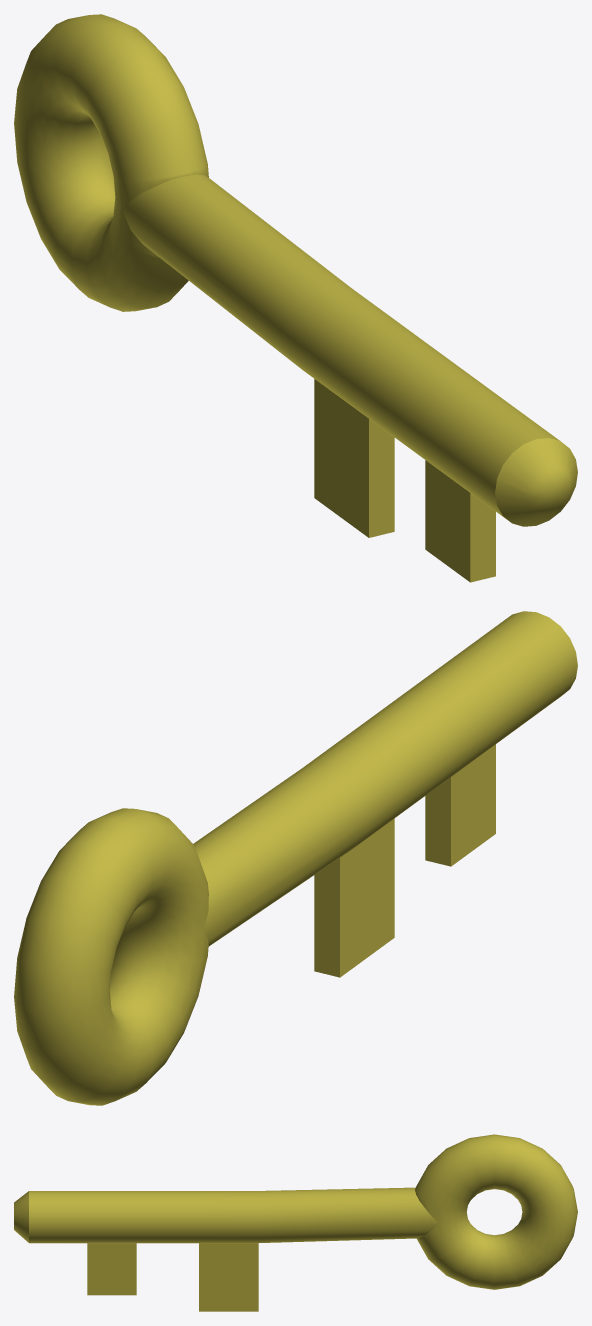
File: Key.fbx
3 views of the same model, one above another, from view 1: azimuth 30°, elevation 25°; view 2: azimuth 150°, elevation 25°; view 3: azimuth 270°, elevation 25° (orthographic). The views are drawn at different scales.
Parts seen in each view (by area): view 1: pTorus2; view 2: pTorus2; view 3: pTorus2.
Part boxes in pixels (box(x1,y1,x2,y2)): pTorus2: box(14, 14, 577, 582); pTorus2: box(14, 611, 577, 1105); pTorus2: box(14, 1134, 577, 1311).
Bounding box in the file's own units: 21.71 × 78.16 × 233.
